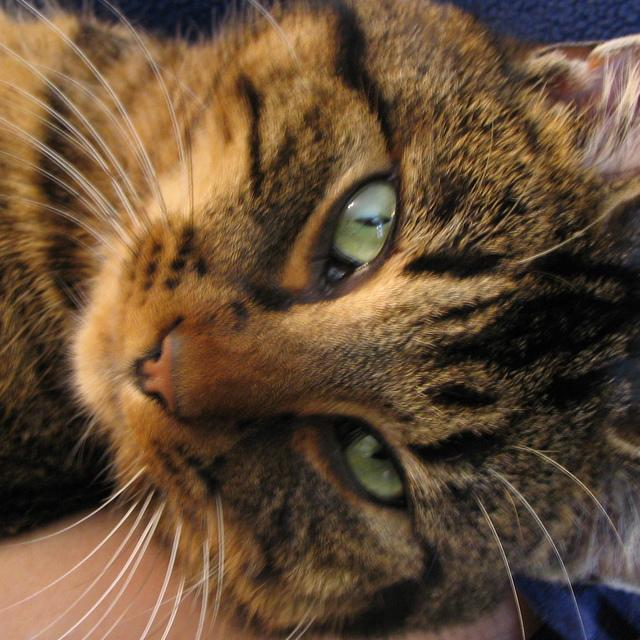animals: (132, 40, 640, 608)
